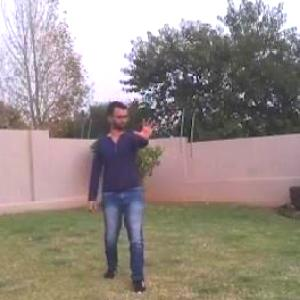follow_hand: (134, 113, 160, 142)
